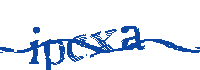a: (119, 22, 146, 54)
c: (66, 33, 87, 62)
i: (29, 25, 42, 64)
p: (42, 37, 66, 70)
x: (87, 25, 117, 56)
